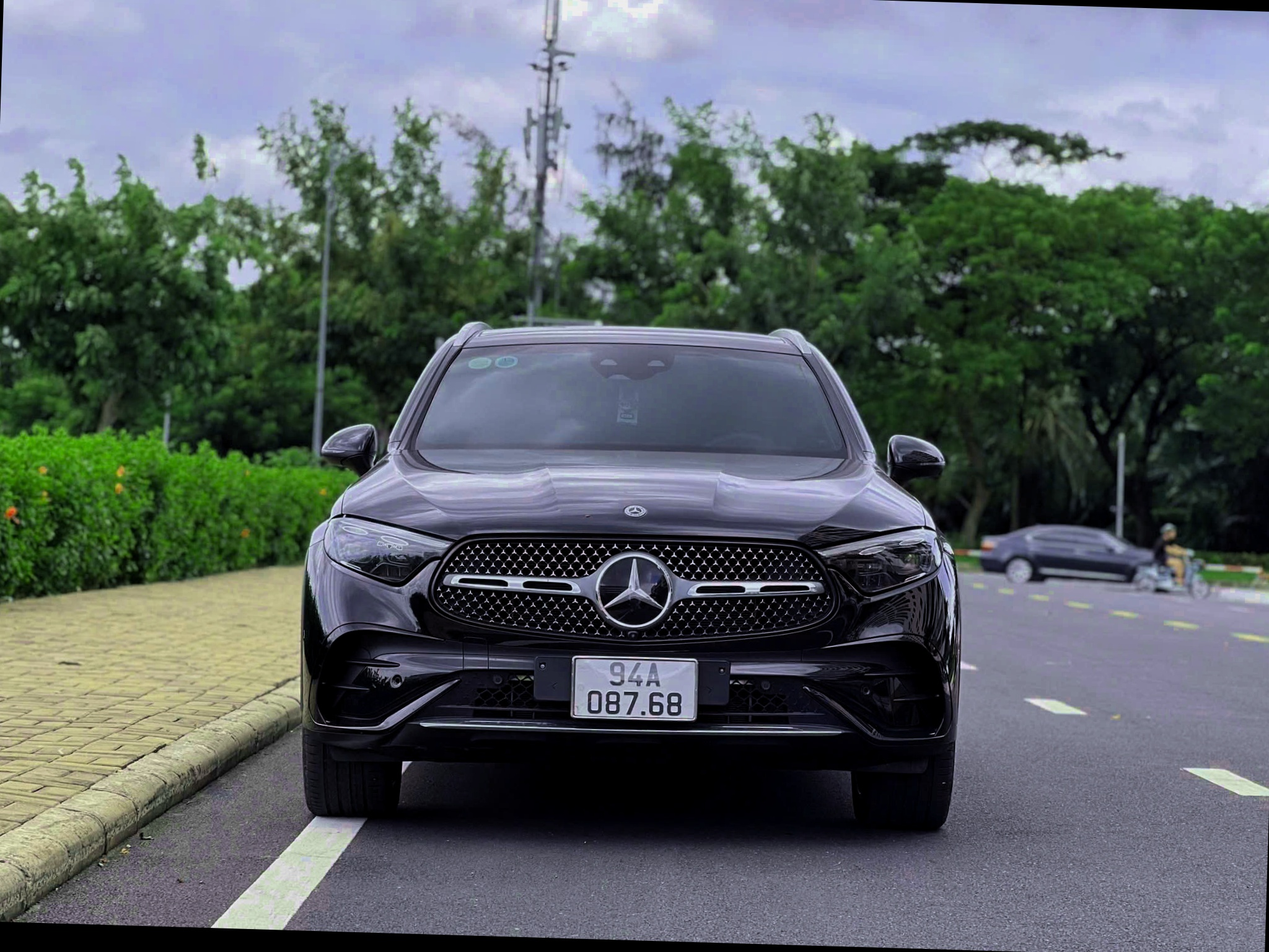Bien-so: (578, 664, 709, 735)
